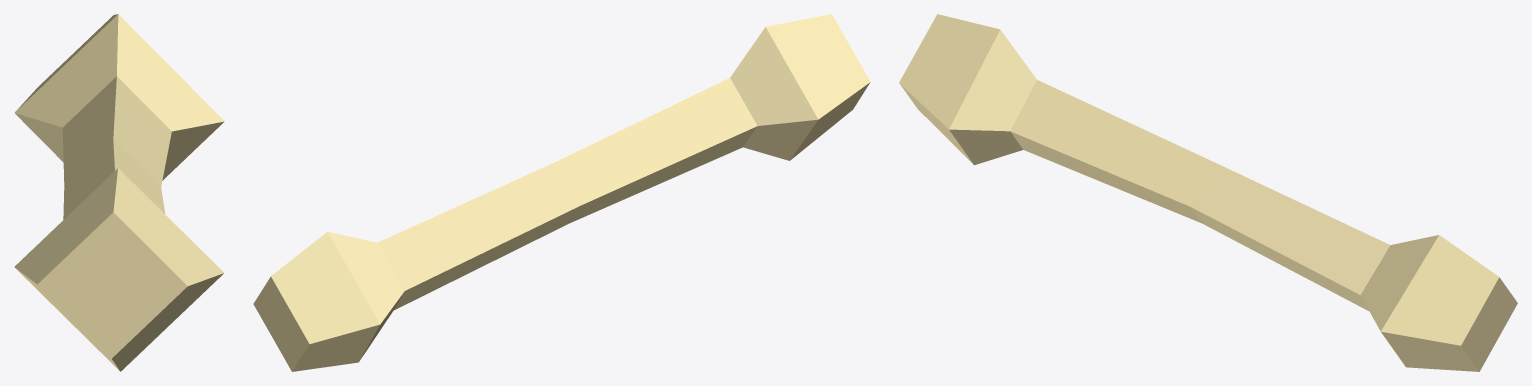
The model's file is bone.fbx.
3 renders of one model, left to right at view 1: azimuth 30°, elevation 25°; view 2: azimuth 150°, elevation 25°; view 3: azimuth 270°, elevation 25°, orthographic. The views are drawn at different scales.
Visible parts, largest first — view 1: bone.002; view 2: bone.002; view 3: bone.002.
Boxes of the visible parts, bbox=[...] form: bone.002: bbox=[14, 14, 224, 371]; bone.002: bbox=[253, 14, 870, 371]; bone.002: bbox=[899, 14, 1517, 371].
Bounding box in the file's own units: 48.29 × 29.99 × 70.7.
